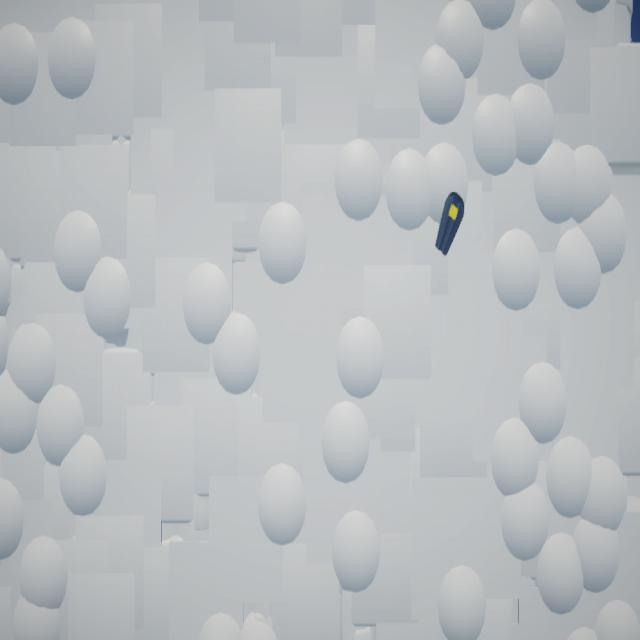handle_folk: (436, 193, 465, 258)
